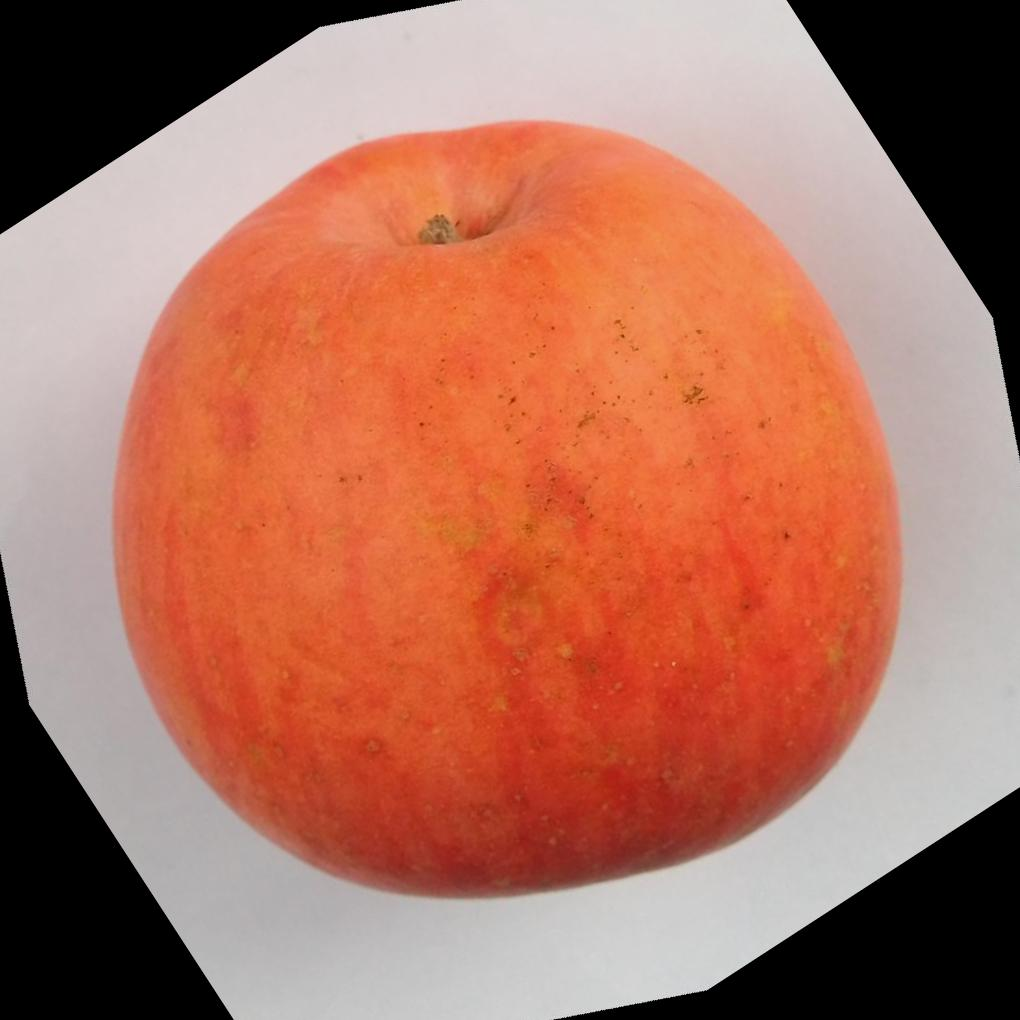FreshGuava: (107, 111, 904, 900)
